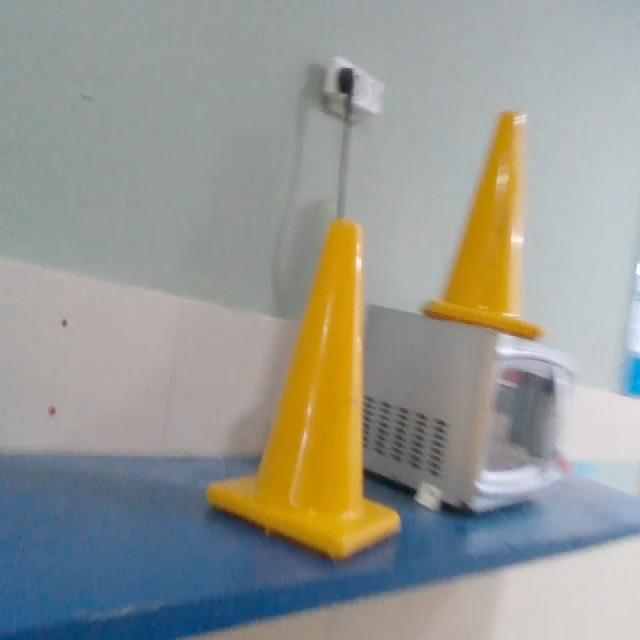cone: (208, 221, 402, 562), (420, 111, 545, 342)
